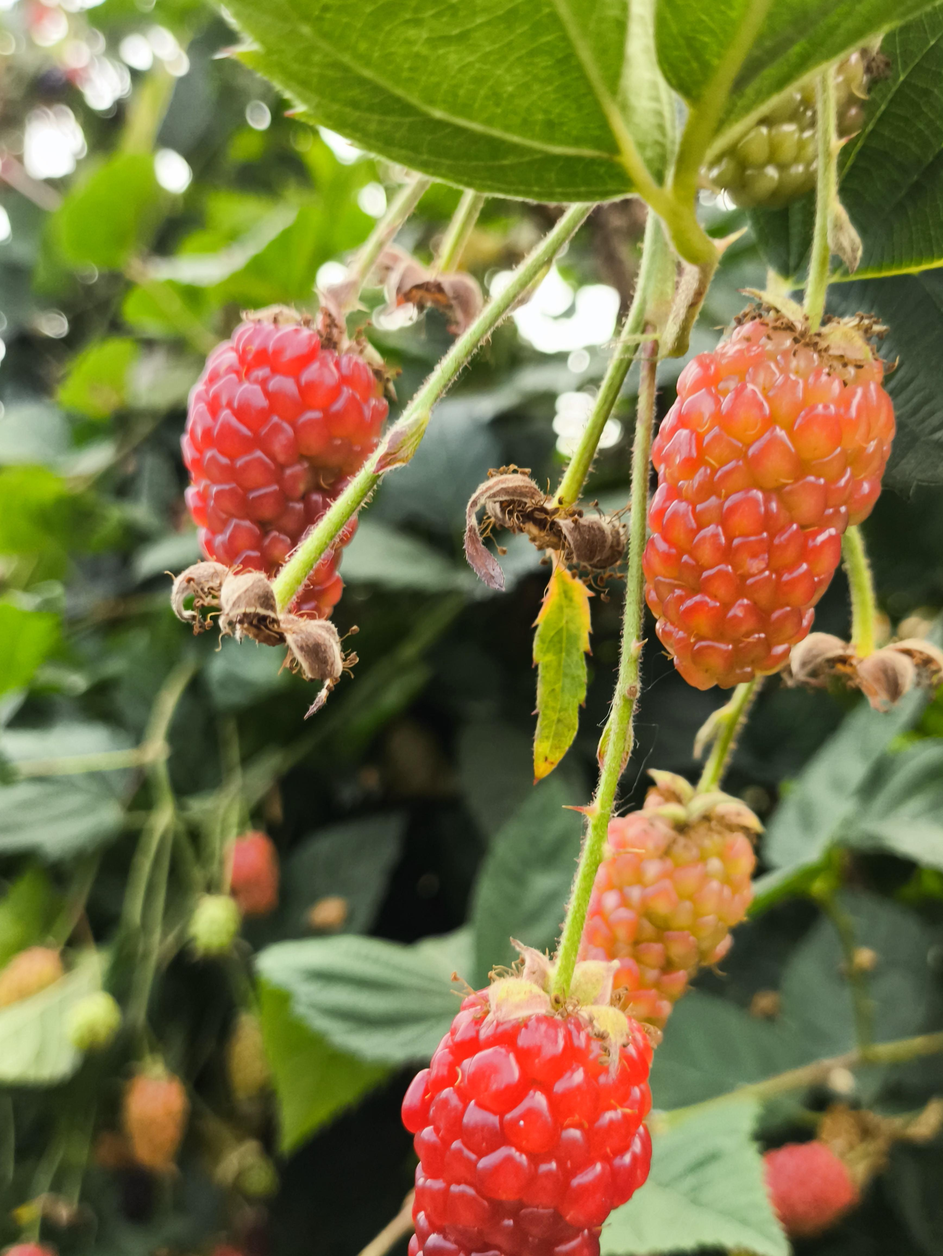naranja: (643, 312, 895, 688), (402, 967, 651, 1256), (181, 307, 387, 577), (579, 773, 760, 1028)
